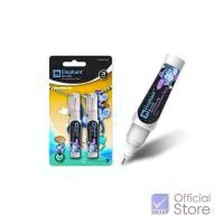book: (46, 52, 114, 169)
correction_fluid: (115, 49, 187, 167), (82, 90, 101, 159), (65, 91, 82, 159)
